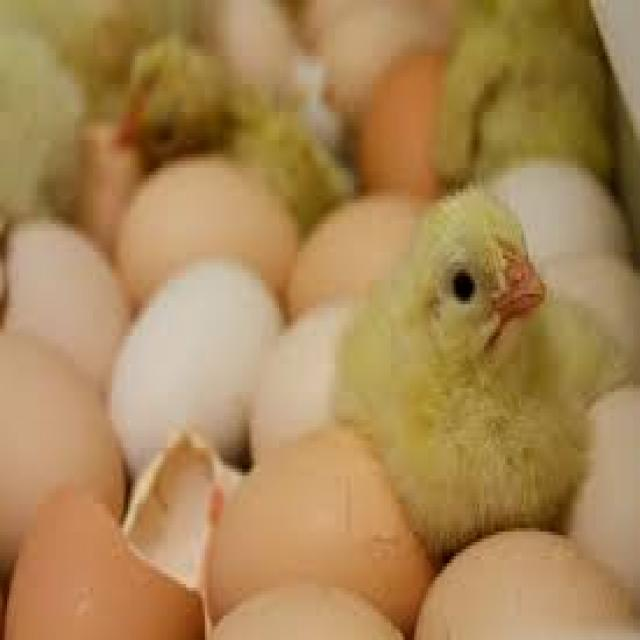Wet: (1, 190, 333, 640), (98, 237, 282, 475)
